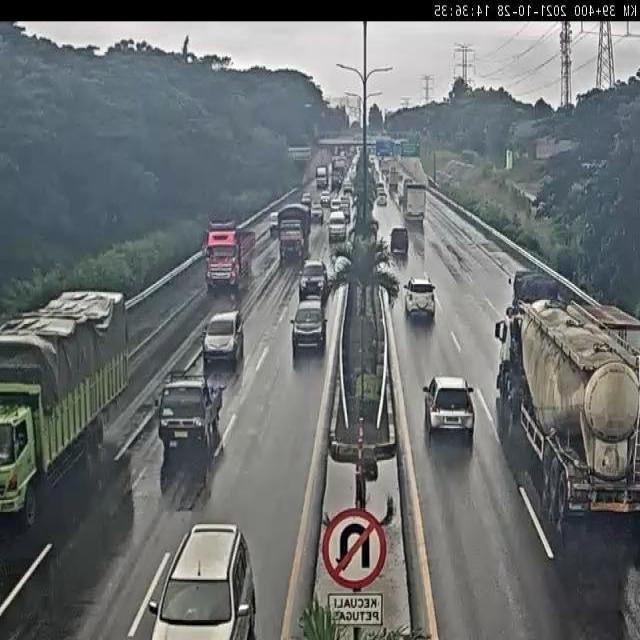Car: (144, 524, 258, 640), (153, 373, 225, 457), (421, 376, 479, 446), (202, 307, 244, 377), (290, 300, 329, 357), (404, 275, 437, 322), (298, 259, 329, 296), (326, 209, 348, 242), (387, 227, 410, 255), (267, 210, 280, 235), (311, 204, 325, 224), (375, 190, 389, 207), (298, 192, 314, 204), (321, 193, 330, 203)
Truck: (493, 271, 640, 527), (0, 287, 132, 533), (202, 226, 258, 290), (280, 202, 312, 261), (401, 179, 428, 225)
